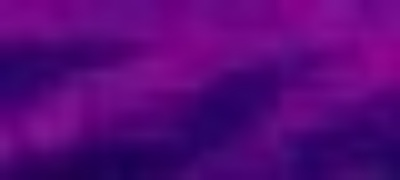Shadow: (1, 36, 150, 114), (280, 91, 400, 179), (1, 140, 208, 180), (183, 65, 280, 141)
